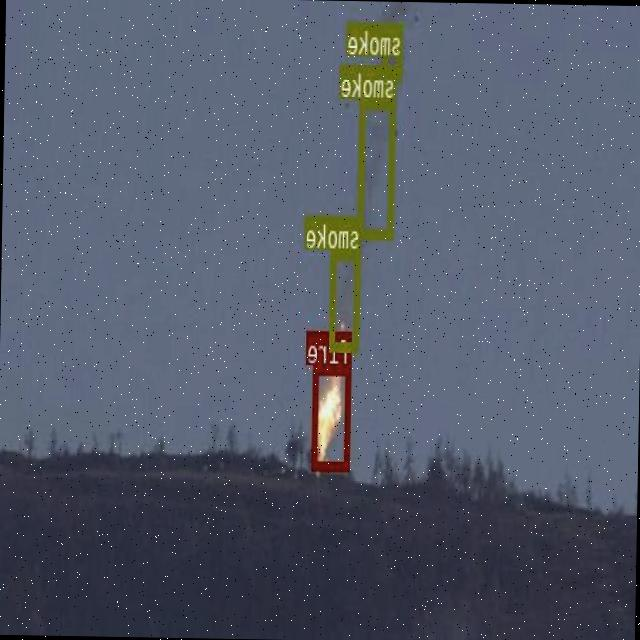fire: (312, 364, 352, 469)
smoke: (358, 96, 396, 238), (330, 250, 361, 348), (383, 22, 403, 78)
